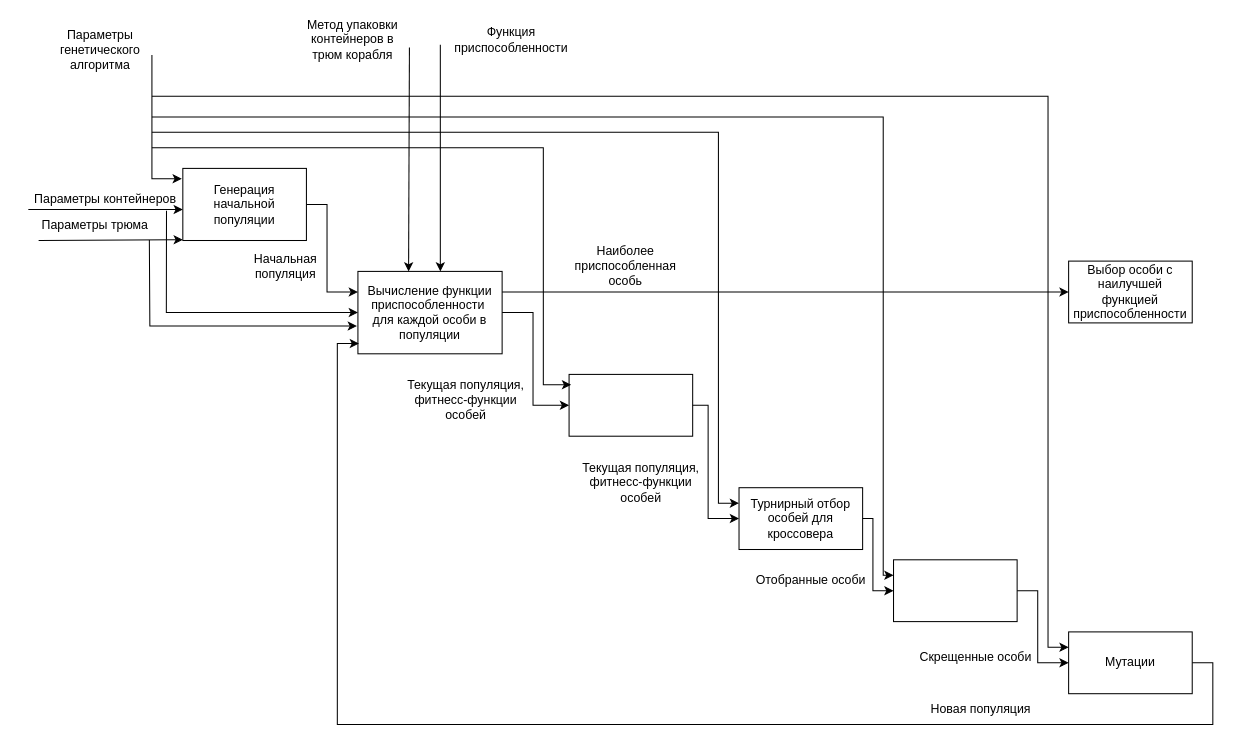
The diagram is 1239 pixels wide and 751 high, and some of its shapes have lost their labels. The centre of each missing label's shape, as x and y in pixels:
"Кроссовер" belongs at [954,590].
"Отбор элитных особей для следующего поколения" belongs at [630,404].
